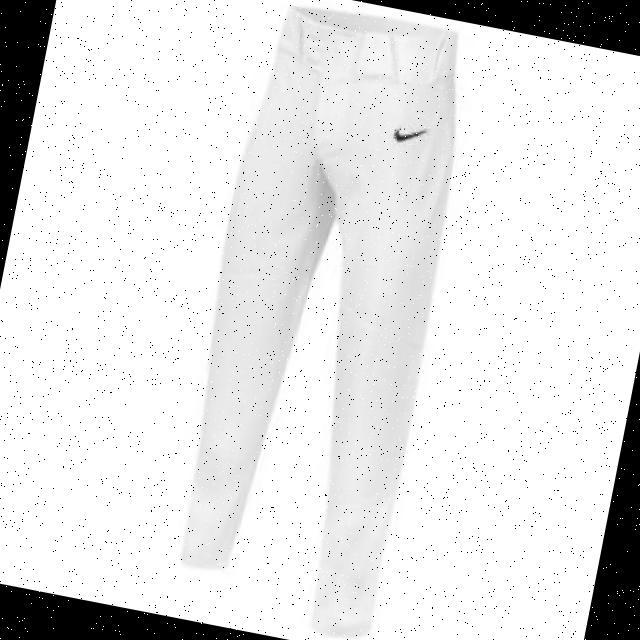Nike: (392, 121, 429, 145)
